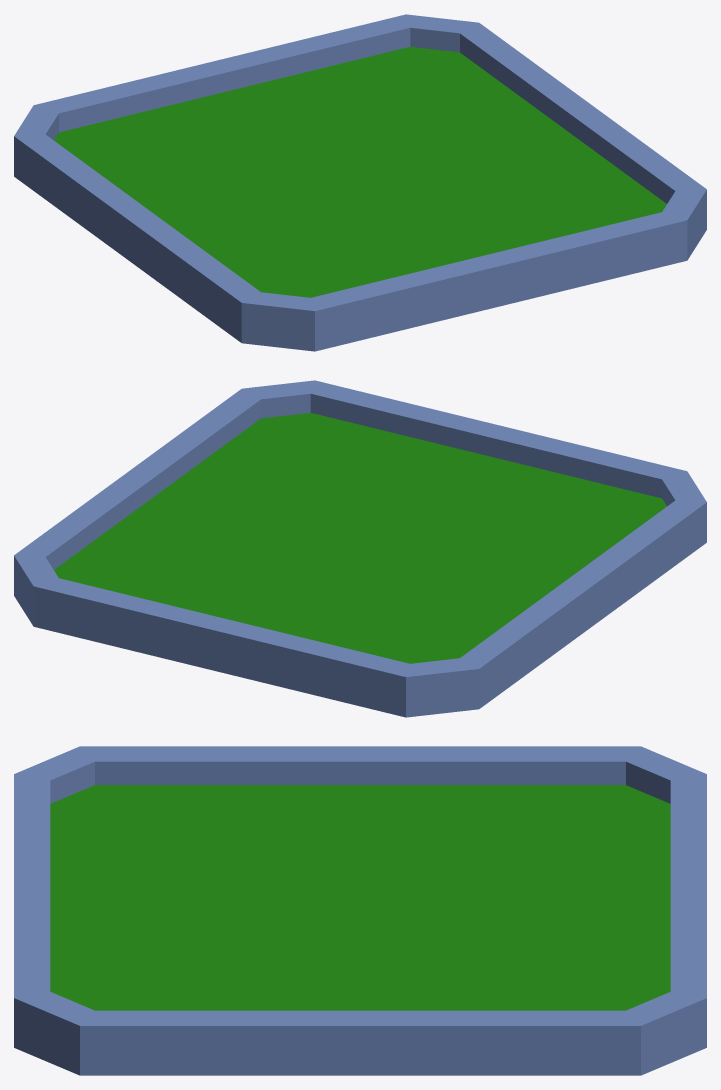
Rendered from Flowerbed.FBX.
The picture shows the model from 3 angles, top to bottom: view 1: azimuth 30°, elevation 25°; view 2: azimuth 150°, elevation 25°; view 3: azimuth 270°, elevation 25°; orthographic projection. The views are drawn at different scales.
Visible parts, largest first — view 1: flowerbed001; view 2: flowerbed001; view 3: flowerbed001.
Boxes of the visible parts, <box> form: flowerbed001: <box>14,14,706,351</box>; flowerbed001: <box>14,380,706,717</box>; flowerbed001: <box>14,746,706,1075</box>.
Bounding box in the file's own units: 20.86 × 1.73 × 21.85.
